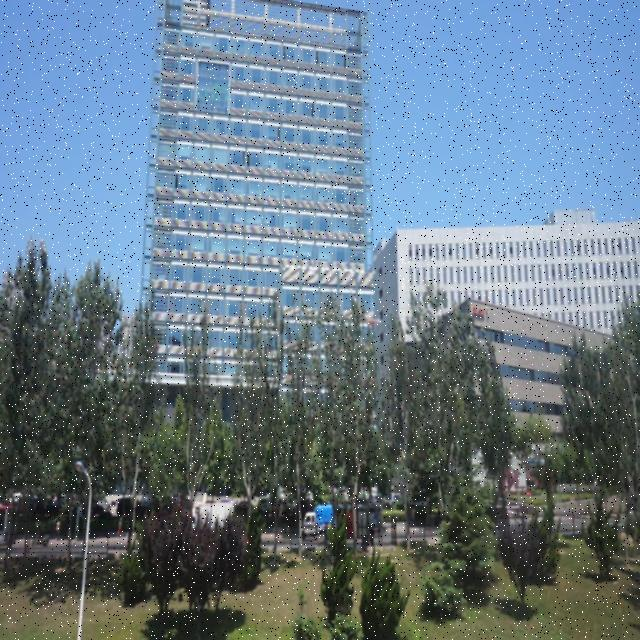UAV: (366, 316, 382, 326)
